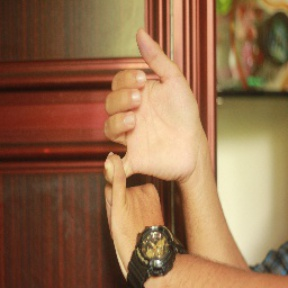S: (89, 25, 211, 284)
